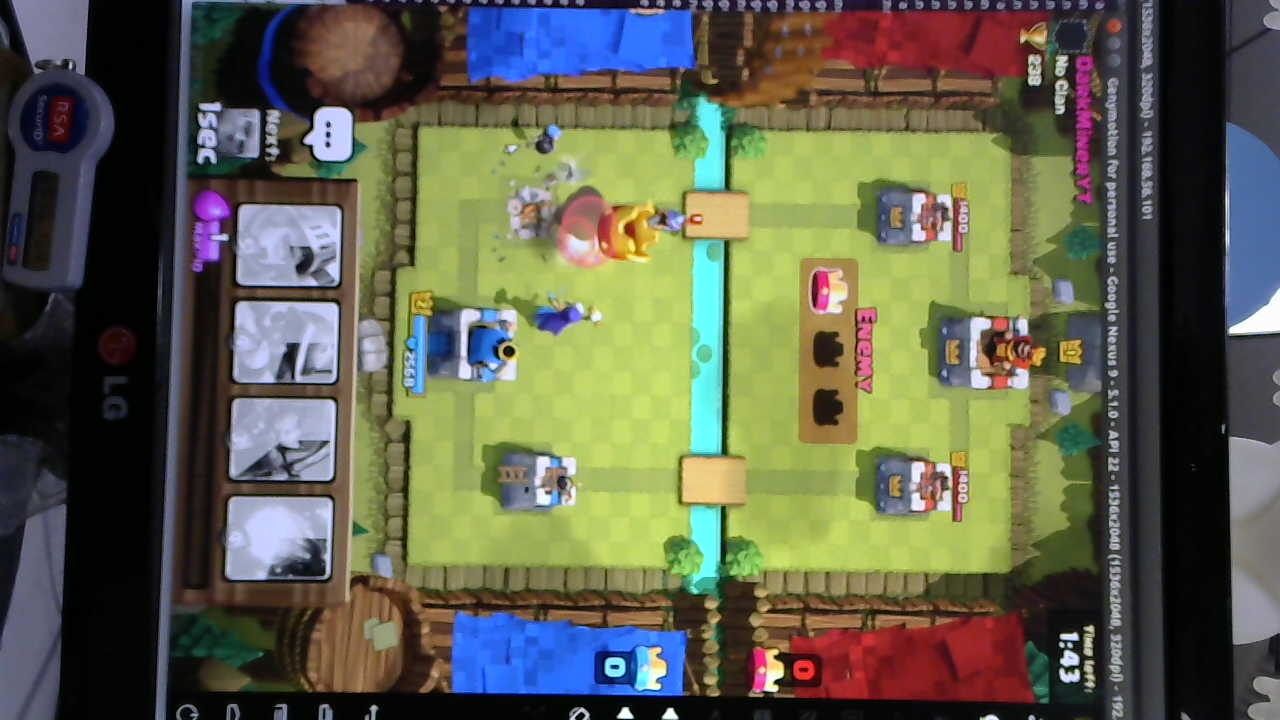arena: (498, 448, 582, 515)
bomb: (527, 120, 566, 153)
darena: (501, 185, 561, 246)
earena: (870, 456, 955, 521), (873, 189, 955, 250)
eking: (928, 313, 1046, 391)
king: (431, 303, 525, 383)
musketeer: (646, 205, 687, 234)
witch: (530, 296, 605, 338)
